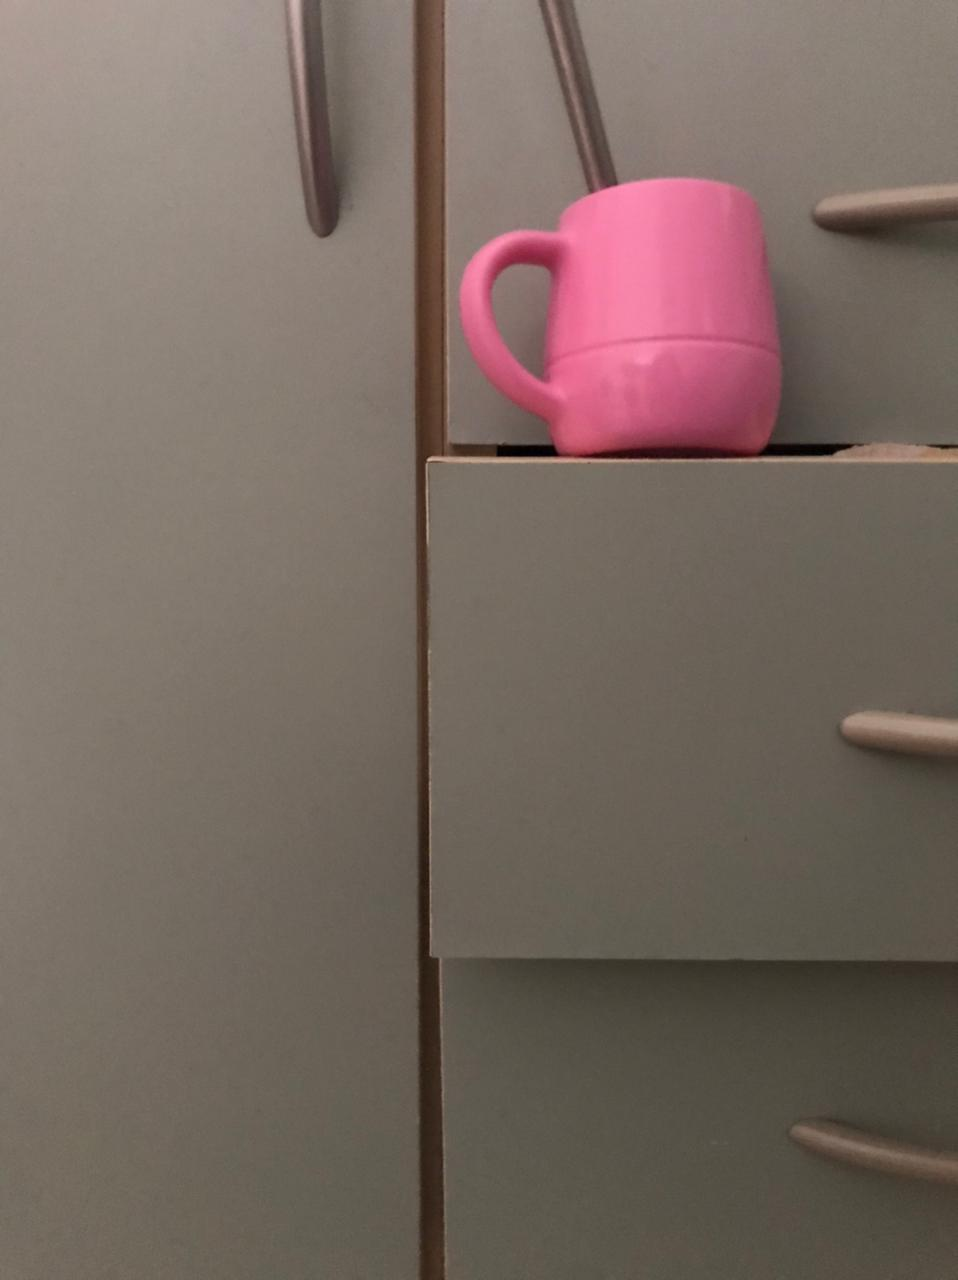mate: (452, 1, 852, 451)
